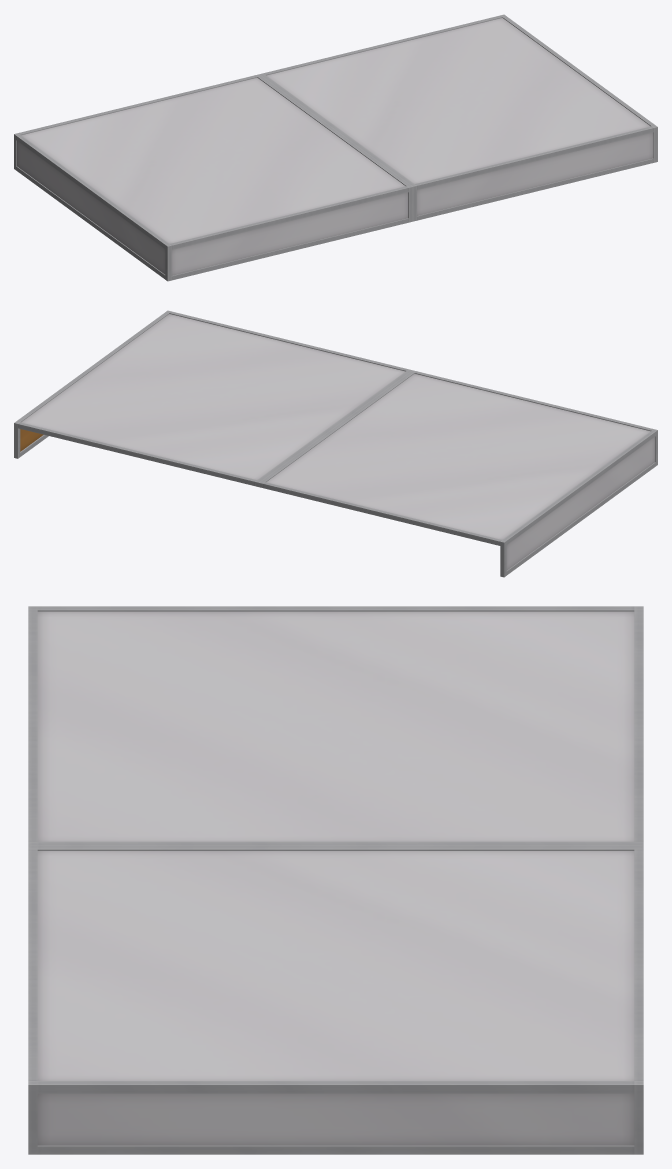
The model's file is jsf_2P_s01_c04_t01_DX.fbx.
3 renders of one model, top to bottom at view 1: azimuth 30°, elevation 25°; view 2: azimuth 150°, elevation 25°; view 3: azimuth 270°, elevation 25°, orthographic. The views are drawn at different scales.
Parts seen in each view (by area): view 1: jsf_2P_s01_c04_t01_DX; view 2: jsf_2P_s01_c04_t01_DX; view 3: jsf_2P_s01_c04_t01_DX.
Part boxes in pixels (box(x1,y1,x2,y2)): jsf_2P_s01_c04_t01_DX: box(14, 14, 657, 281); jsf_2P_s01_c04_t01_DX: box(14, 310, 657, 577); jsf_2P_s01_c04_t01_DX: box(28, 606, 643, 1154).
Size of the model in its own units: 184 by 12.51 by 100.
